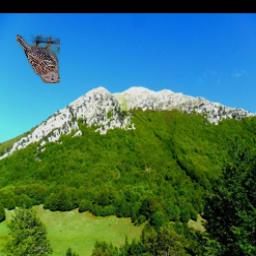Sparrow: (17, 35, 60, 83)
